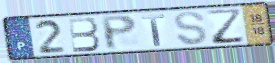2: (33, 18, 67, 56)
B: (66, 15, 102, 54)
P: (99, 14, 139, 51)
S: (173, 10, 210, 47)
T: (140, 13, 168, 47)
Z: (205, 7, 248, 45)
